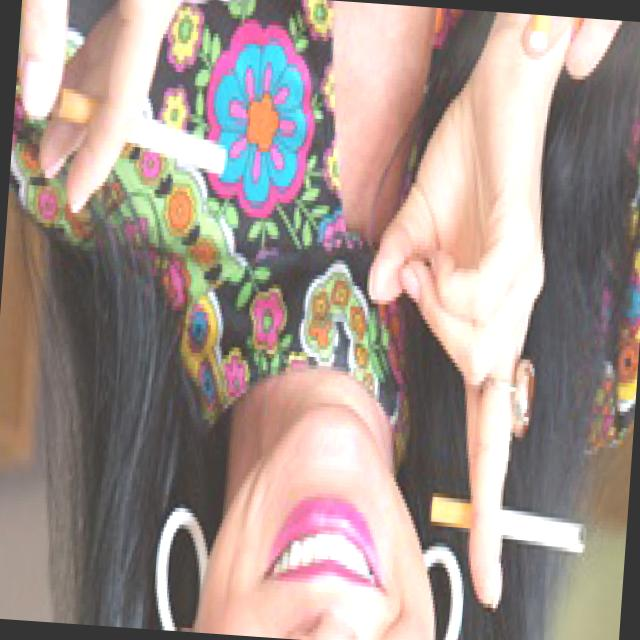smoke: (498, 502, 590, 554)
